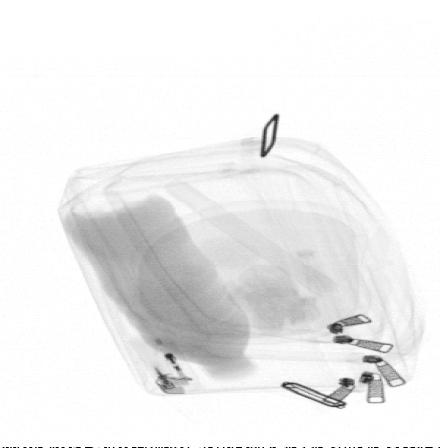Lighter: (128, 335, 207, 395)
